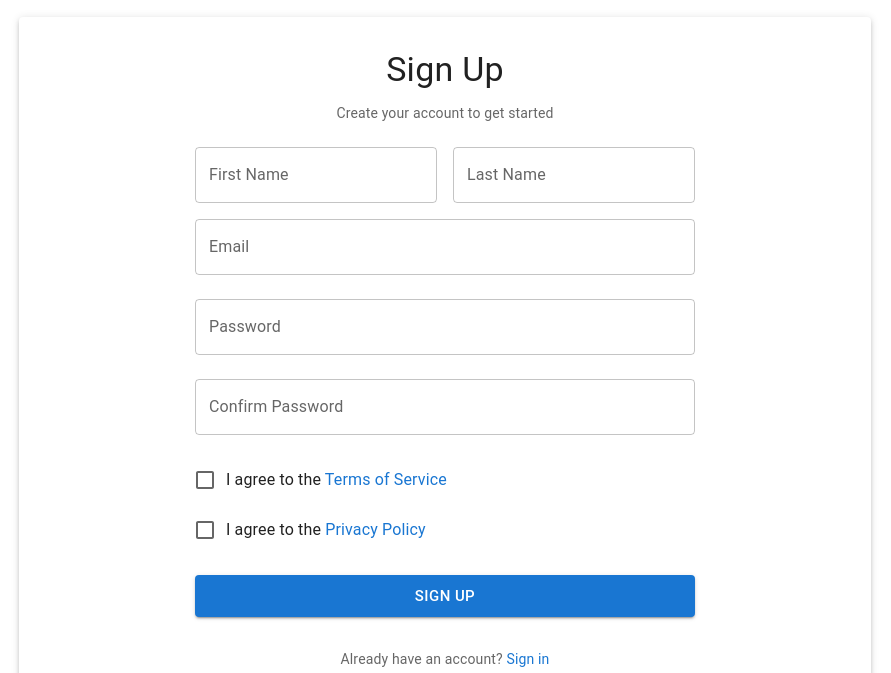
Test: RegisterPage - Integration Tests › Form Validation › should validate password strength
Type "weak" into the password field labelled "Password" at (445, 327), box [195,299,695,355]
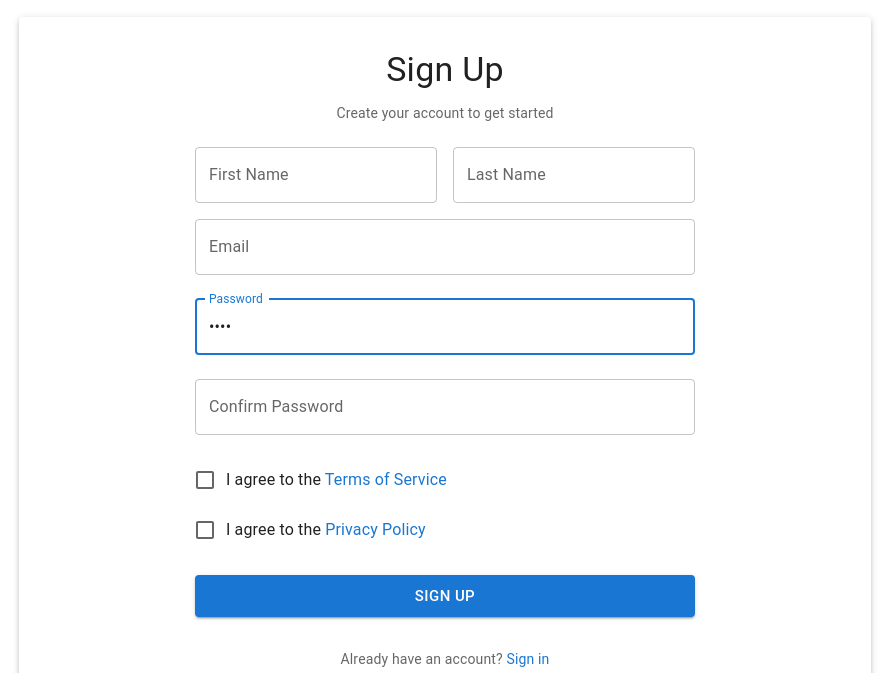
Click the button "Sign Up" at (445, 596), box [195,575,695,617]
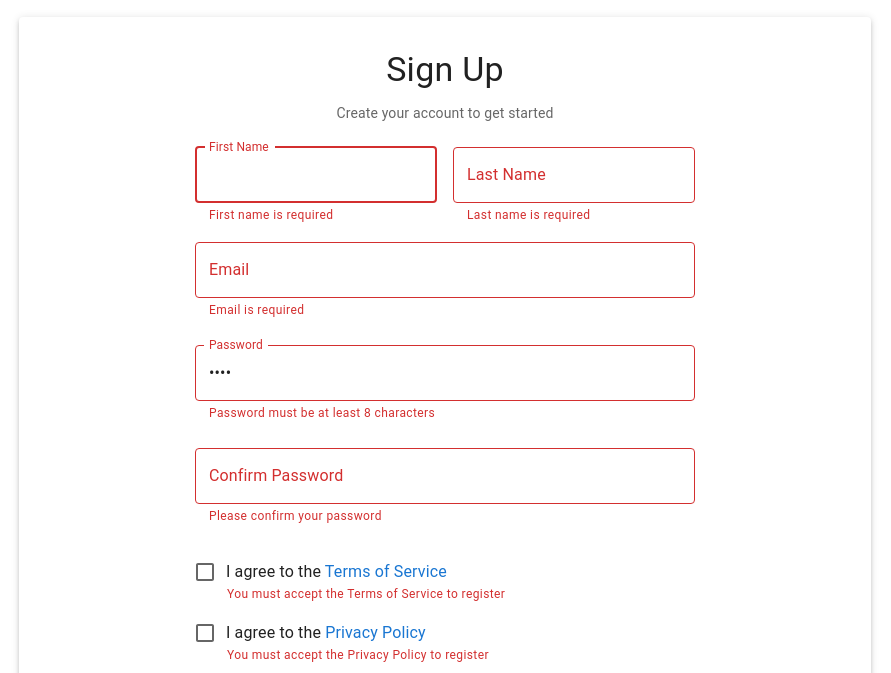
Check: the text "Password must be at least 8 characters" is shown, box [209,406,435,420]
